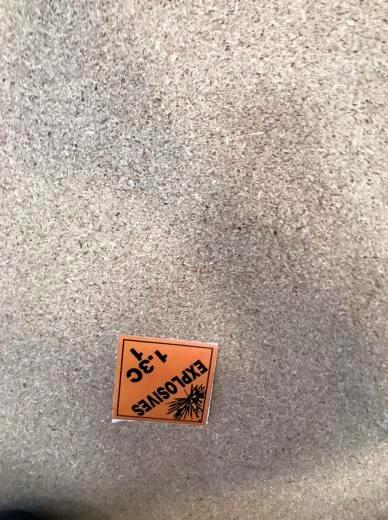explosive: (111, 334, 218, 429)
